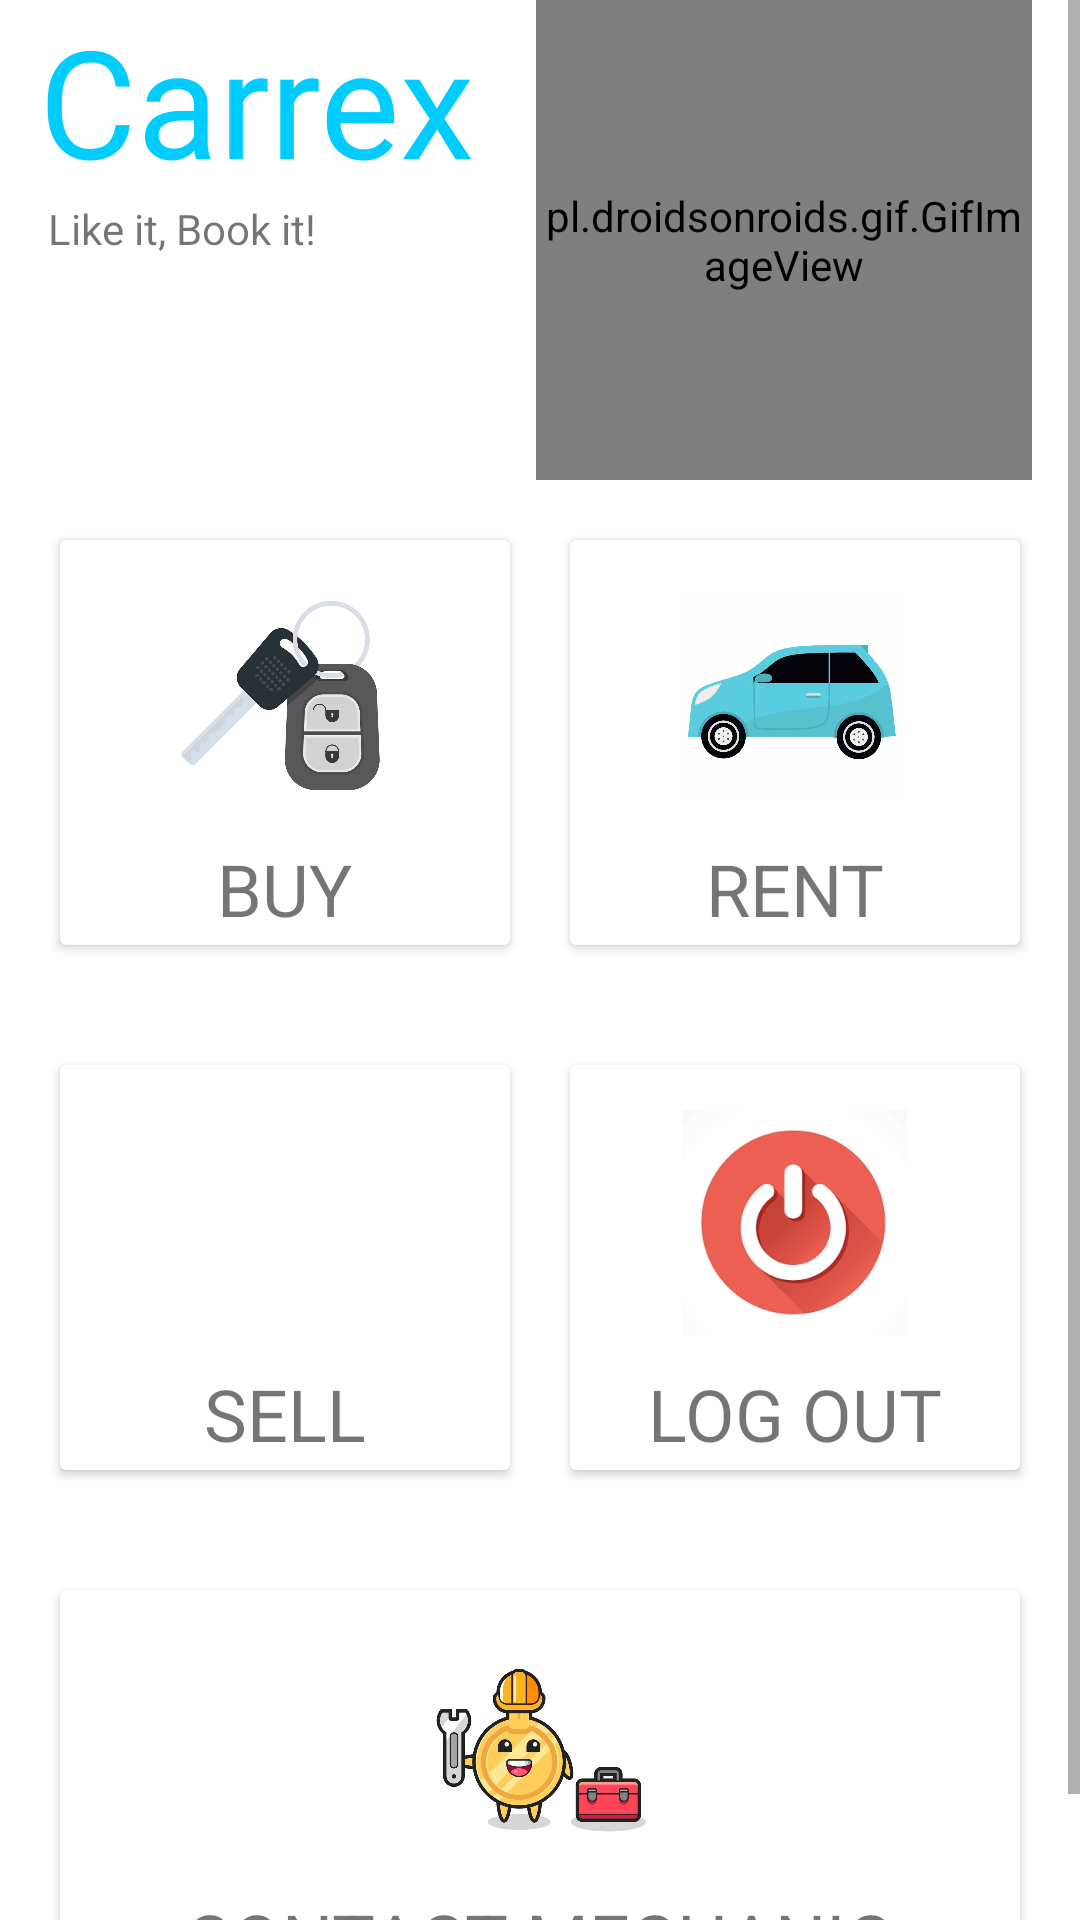

Where icons sit on this 1080 × 1920 app screen, as (x1, y1, x2, y2):
buycar: (182, 601, 380, 790)
